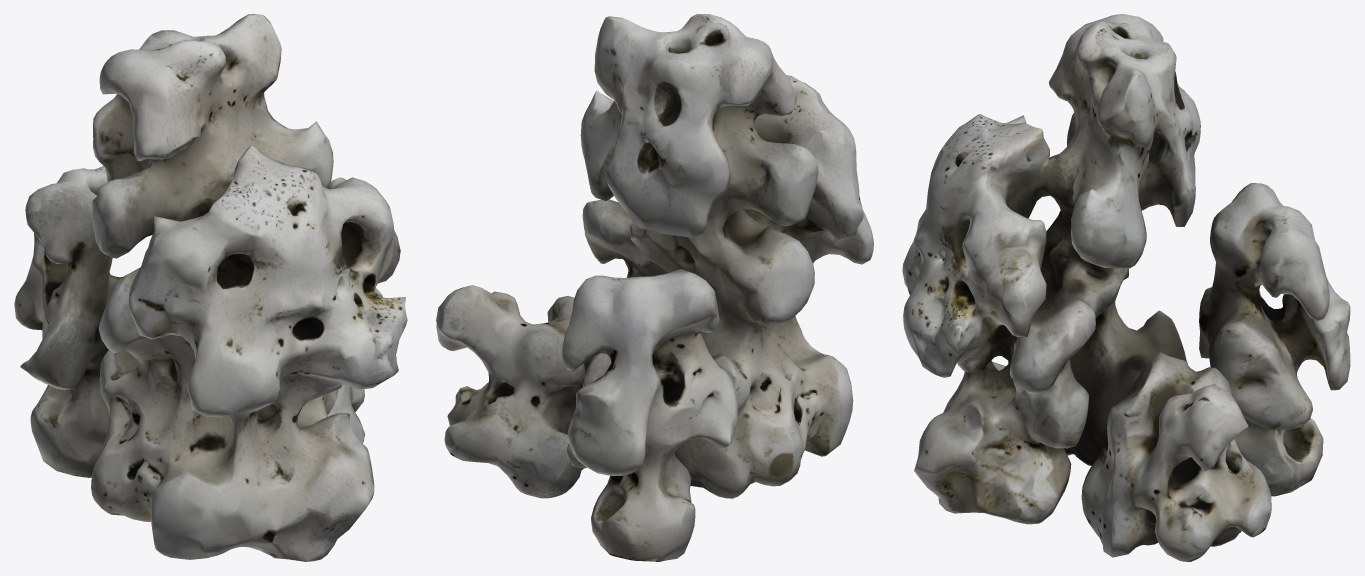
The model's file is shizu.glb.
The picture shows the model from 3 angles, left to right: view 1: azimuth 30°, elevation 25°; view 2: azimuth 150°, elevation 25°; view 3: azimuth 270°, elevation 25°; orthographic projection. The views are drawn at different scales.
Visible parts, largest first — view 1: tripo_node_88979e15-d998-4618-9bc3-20c6fa963630; view 2: tripo_node_88979e15-d998-4618-9bc3-20c6fa963630; view 3: tripo_node_88979e15-d998-4618-9bc3-20c6fa963630.
Boxes of the visible parts, x1,y1,x2,y2 form: tripo_node_88979e15-d998-4618-9bc3-20c6fa963630: [14, 14, 407, 561]; tripo_node_88979e15-d998-4618-9bc3-20c6fa963630: [436, 14, 873, 561]; tripo_node_88979e15-d998-4618-9bc3-20c6fa963630: [902, 14, 1350, 561].
Bounding box in the file's own units: 0.7235 × 0.9998 × 0.8698.
Materials: 1 (1 with a texture image).
